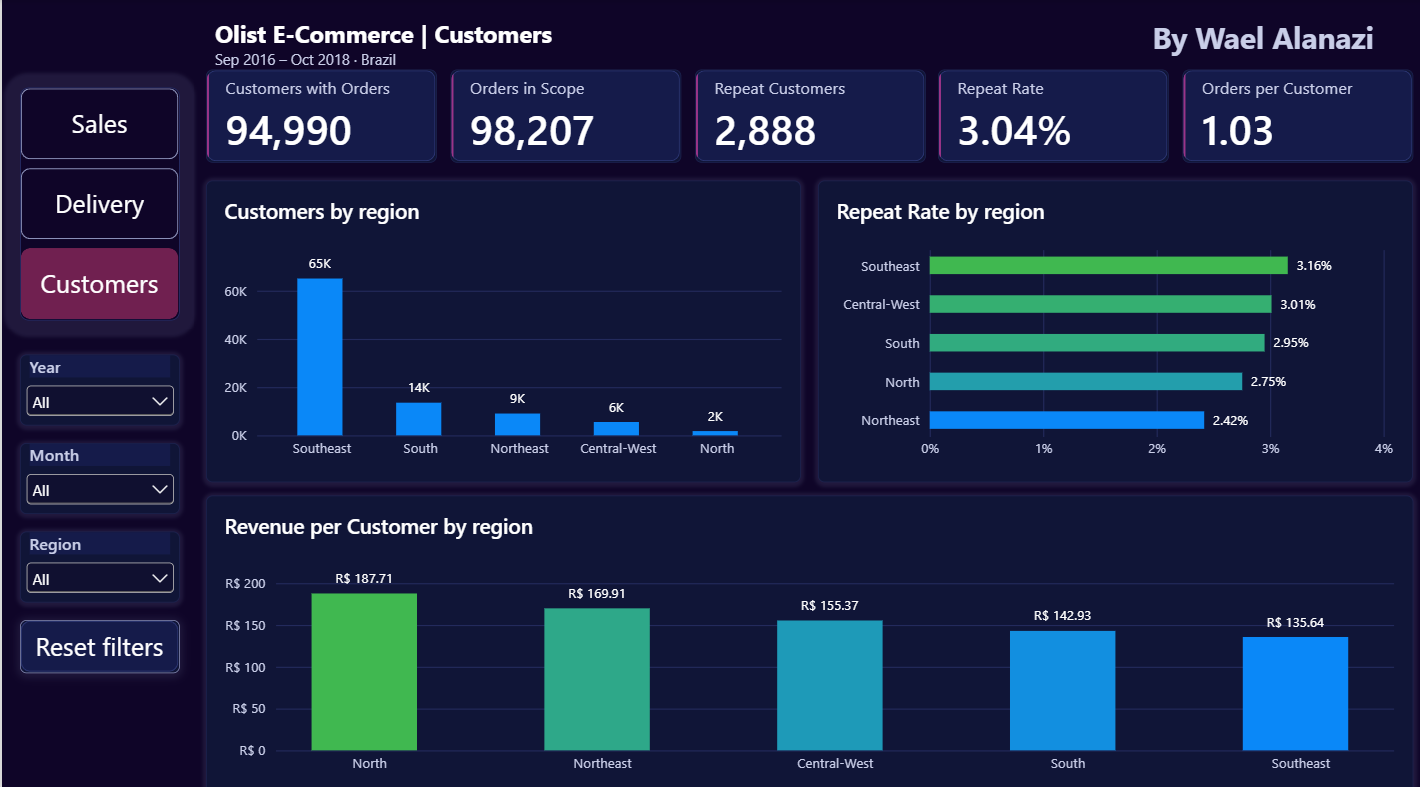

What the dashboard file says about the page in this screenshot:
{"tool":"powerbi","page":{"name":"Customers","canvas":[1280,720],"ordinal":2},"visuals":[{"type":"cardVisual","fields":{"Data":["Measures_.Orders per Customer"]},"box":[1064,64,208,84],"z":0},{"type":"cardVisual","fields":{"Data":["Measures_.Customers with Orders"]},"box":[184,64,208,84],"z":1000},{"type":"cardVisual","fields":{"Data":["Measures_.Repeat Customers"]},"box":[624,64,208,84],"z":2000},{"type":"columnChart","title":"Customers by region","fields":{"Category":["customers.region Hierarchy.region"],"Y":["Measures_.Customers"]},"box":[184,164,536,272],"z":3000},{"type":"barChart","title":"Repeat Rate by region","fields":{"Category":["customers.region"],"Y":["Measures_.Repeat Rate"]},"box":[736,164,536,272],"z":4000},{"type":"columnChart","title":"Revenue per Customer by region","fields":{"Category":["customers.region Hierarchy.region","customers.region Hierarchy.customer_state"],"Y":["Measures_.Revenue per Customer"]},"box":[184,448,1088,272],"z":5000},{"type":"cardVisual","fields":{"Data":["Measures_.Orders in Scope"]},"box":[404,64,208,84],"z":6000},{"type":"cardVisual","fields":{"Data":["Measures_.Repeat Rate"]},"box":[844,64,208,84],"z":8000},{"type":"slicer","fields":{"Values":["Date.Year"]},"box":[16,320,144,64],"z":9000},{"type":"slicer","fields":{"Values":["Date.Month"]},"box":[16,400,144,64],"z":10000},{"type":"slicer","fields":{"Values":["customers.region"]},"box":[16,480,144,64],"z":11000},{"type":"textbox","box":[192,16,592,48],"z":13000},{"type":"pageNavigator","box":[16,80,144,210],"z":14001},{"type":"actionButton","title":"Reset filters","box":[16,560,144,48],"z":14002},{"type":"textbox","box":[1008,16,256,48],"z":14004}]}

Visuals, with their boxes in screenshot pixels (x1, y1, x2, y2), scaled from the page's 1280x720 canvas onto the 1420x787 screenshot:
cardVisual - Measures_.Orders per Customer: (1180,70,1411,162)
cardVisual - Measures_.Customers with Orders: (204,70,435,162)
cardVisual - Measures_.Repeat Customers: (692,70,923,162)
"Customers by region" columnChart: (204,179,799,477)
"Repeat Rate by region" barChart: (816,179,1411,477)
"Revenue per Customer by region" columnChart: (204,490,1411,786)
cardVisual - Measures_.Orders in Scope: (448,70,679,162)
cardVisual - Measures_.Repeat Rate: (936,70,1167,162)
slicer - Date.Year: (18,350,178,420)
slicer - Date.Month: (18,437,178,507)
slicer - customers.region: (18,525,178,595)
textbox: (213,17,870,70)
pageNavigator: (18,87,178,317)
"Reset filters" actionButton: (18,612,178,665)
textbox: (1118,17,1402,70)
